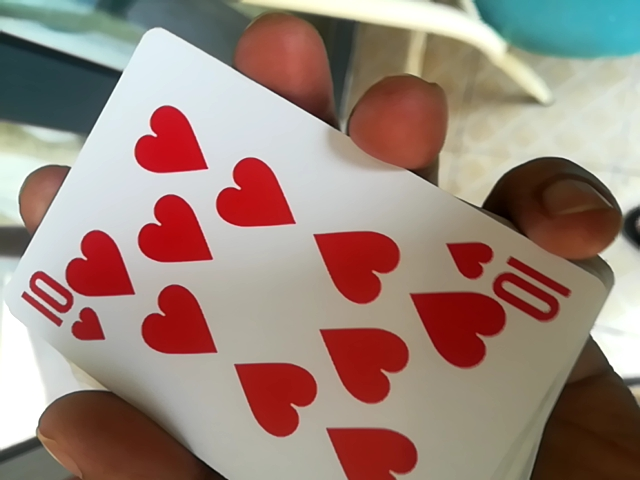hx 10: (9, 22, 574, 478)
